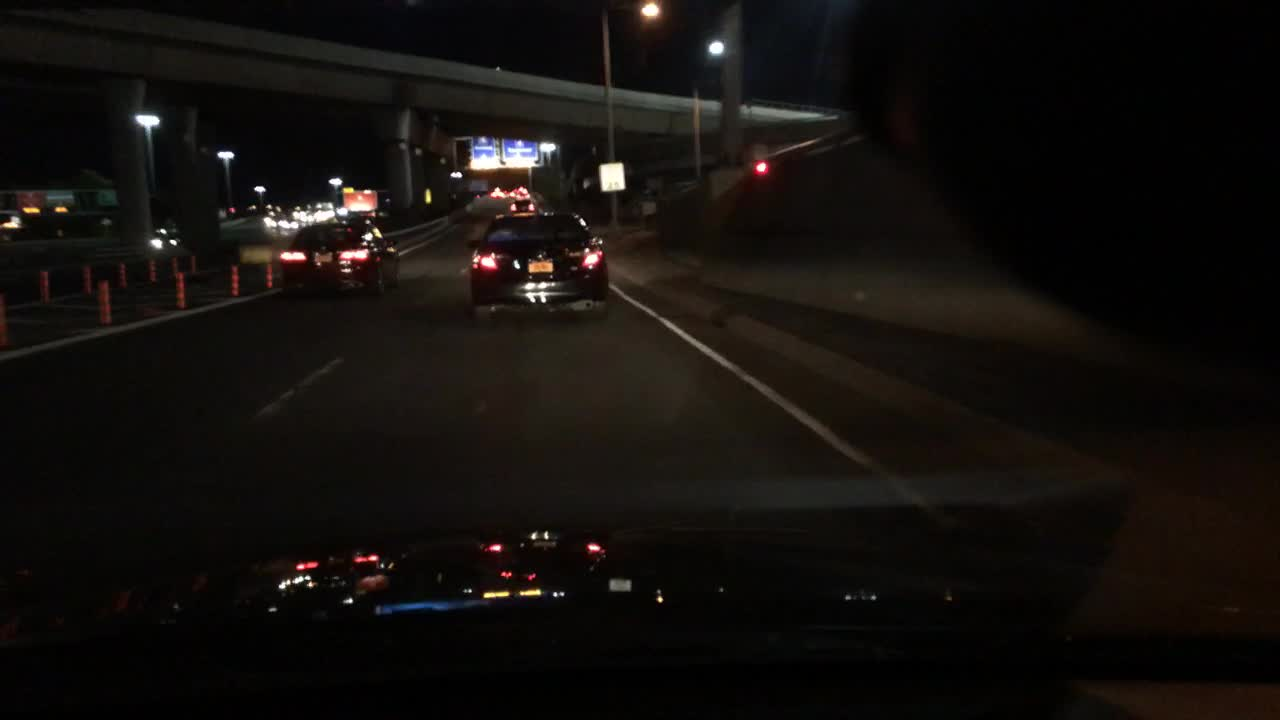car: (465, 211, 608, 316), (280, 216, 399, 299), (0, 207, 112, 240), (150, 227, 178, 248), (509, 198, 535, 213), (518, 184, 530, 201), (313, 210, 331, 221), (261, 215, 277, 227), (314, 201, 333, 210), (490, 186, 503, 198), (335, 204, 346, 216), (300, 212, 312, 222), (291, 208, 304, 216), (283, 221, 297, 228), (509, 186, 517, 198)
traffic light: (755, 158, 769, 175)
traffic sign: (499, 139, 539, 165), (471, 134, 497, 167), (341, 188, 375, 212), (598, 161, 625, 190), (466, 178, 489, 192)
